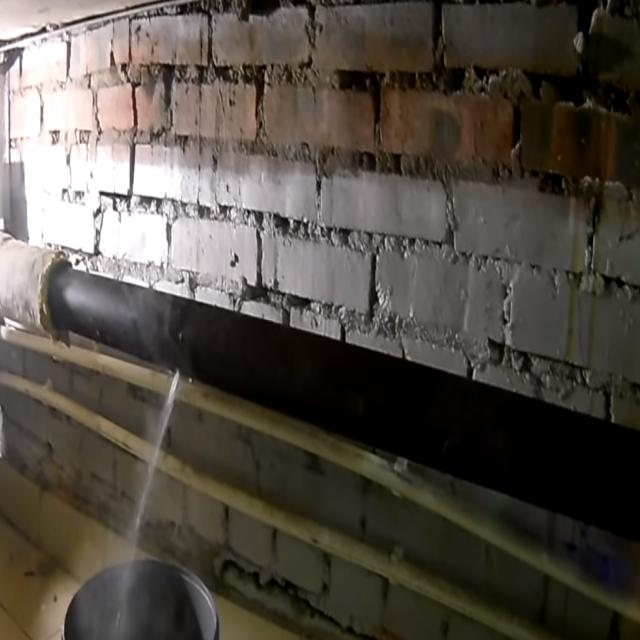leak: (134, 370, 180, 539)
